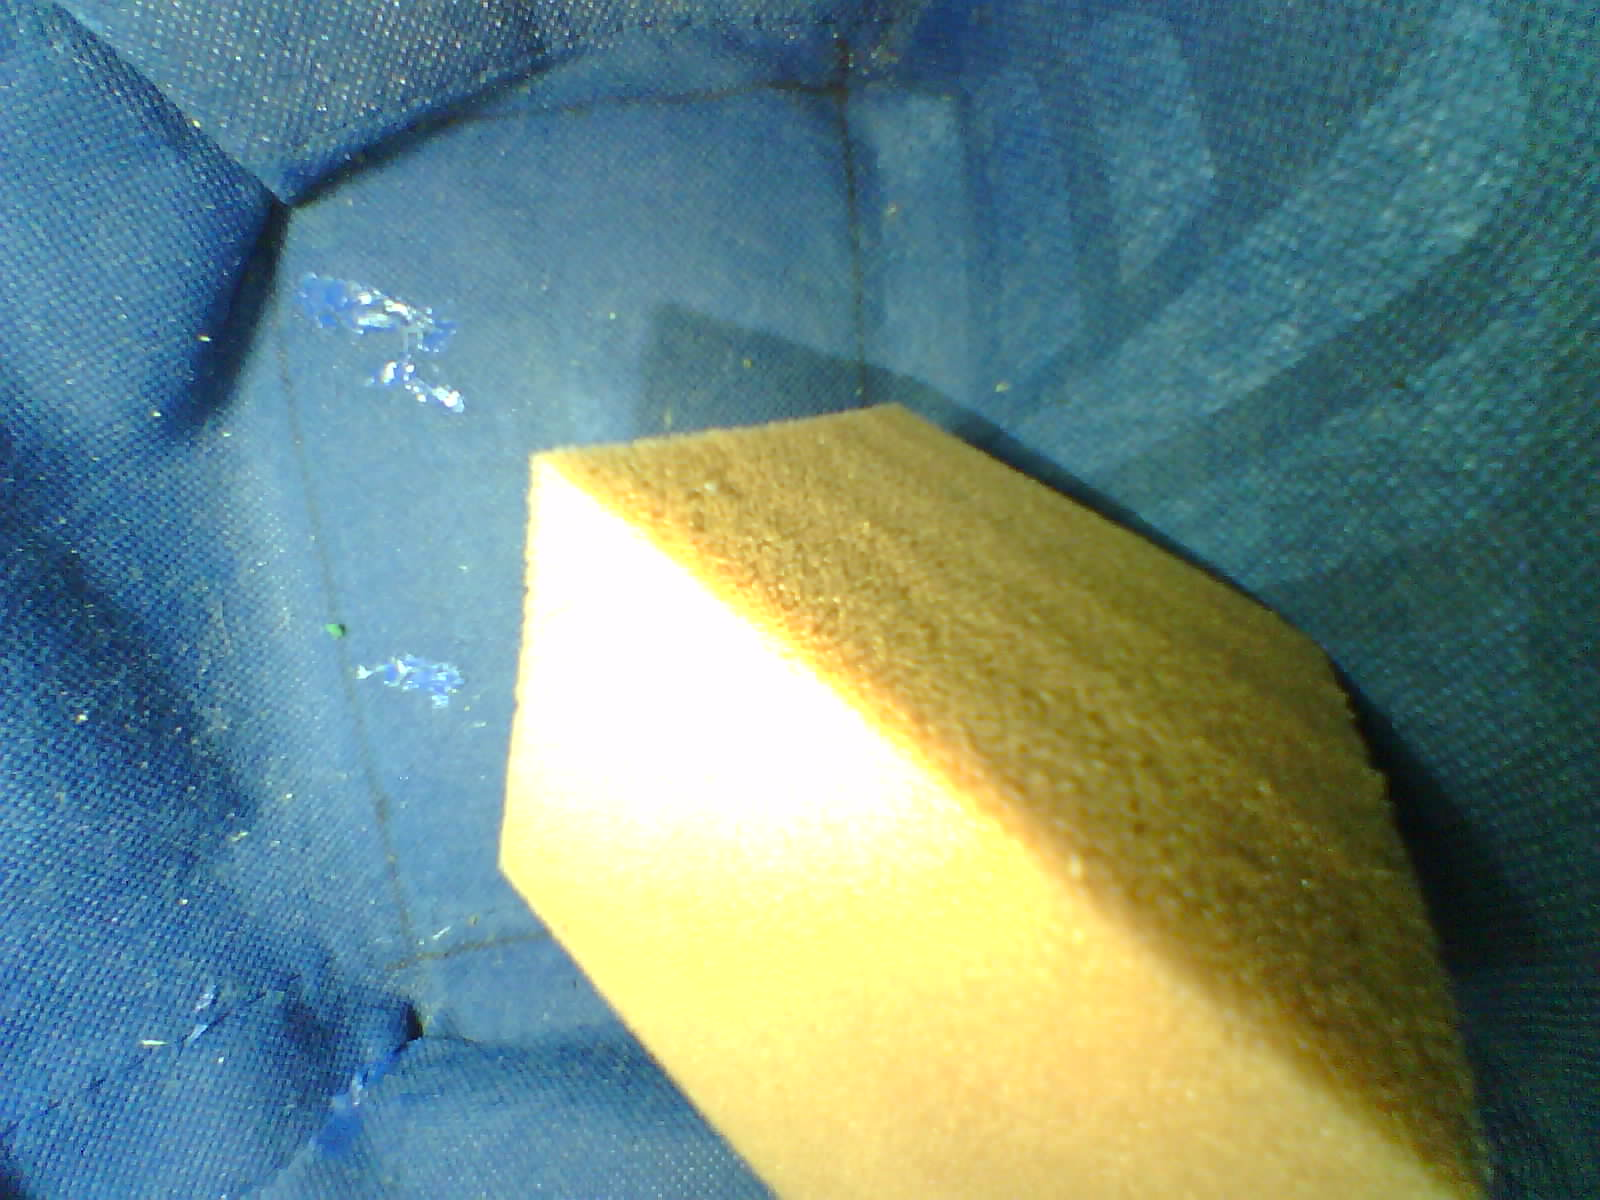cube-soft: (476, 387, 1518, 1200)
